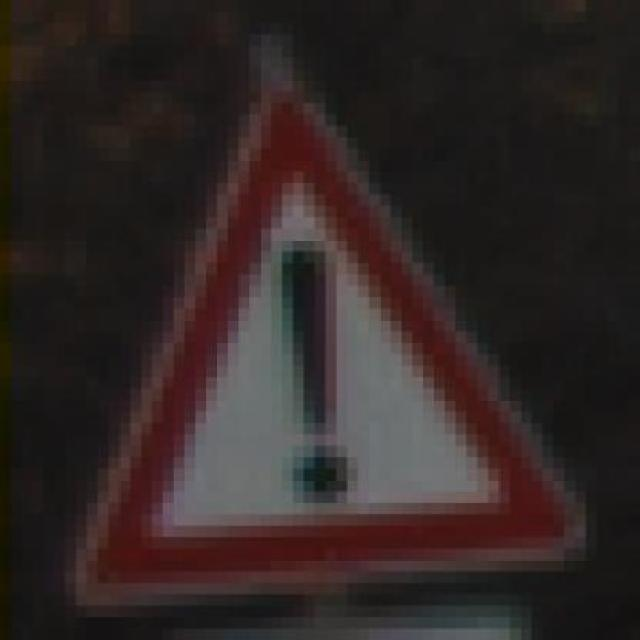Attention Please-: (76, 68, 586, 594)
